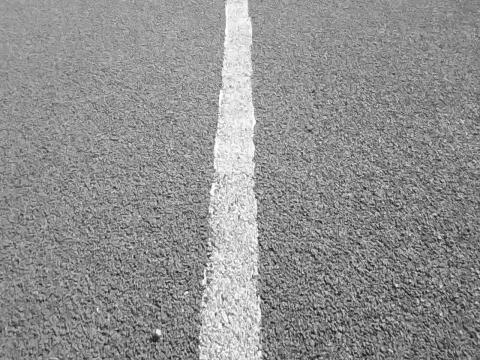Lines: (200, 0, 264, 360)
